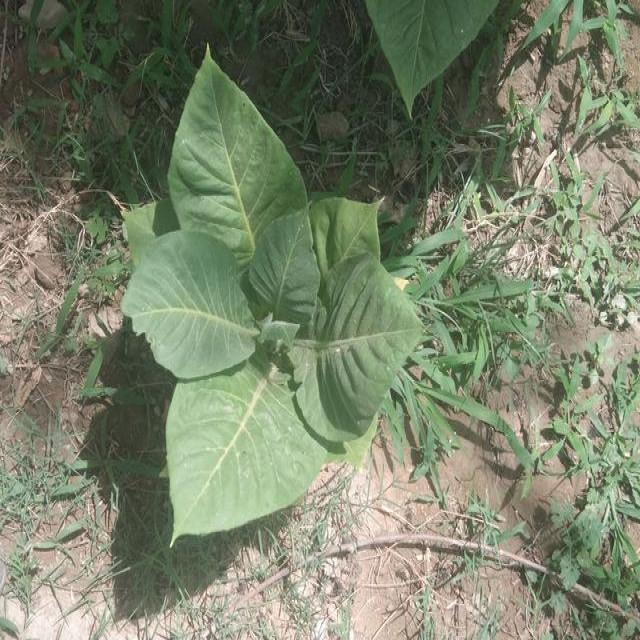crop: (121, 32, 425, 548)
